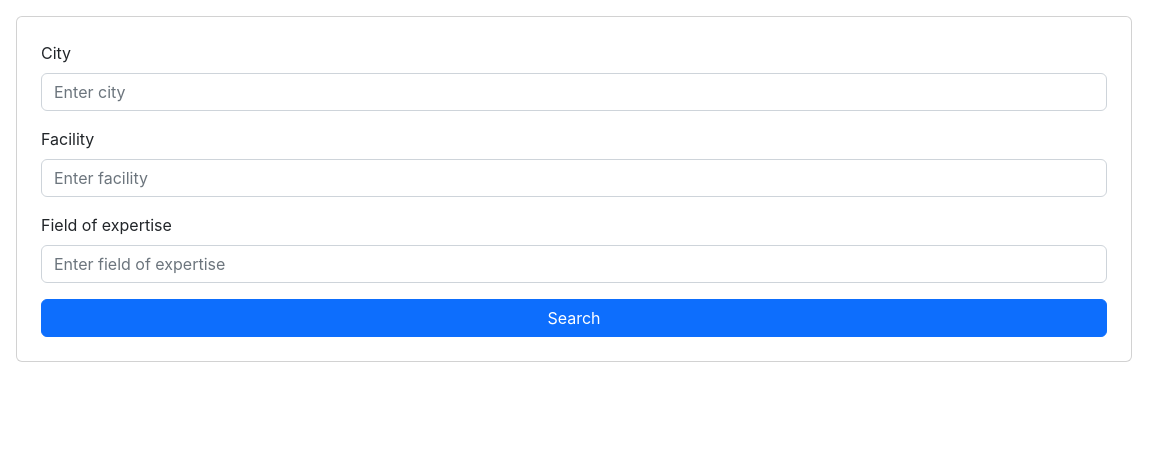
Test search form component › shows information about no results found
Click the button "Search". click: click(574, 318)
box: [41,299,1107,337]
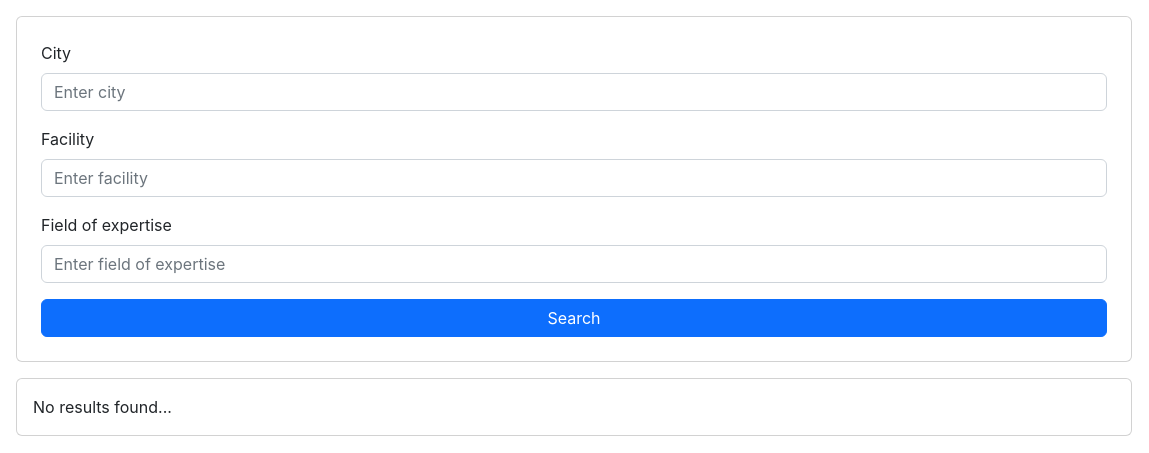
expect the text "No results found..." is shown: met, box [33,397,172,417]
